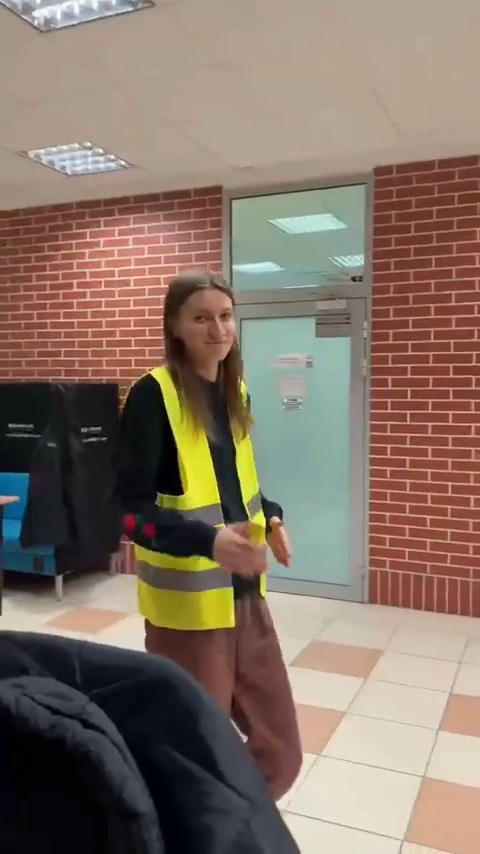vest: (106, 273, 307, 757)
